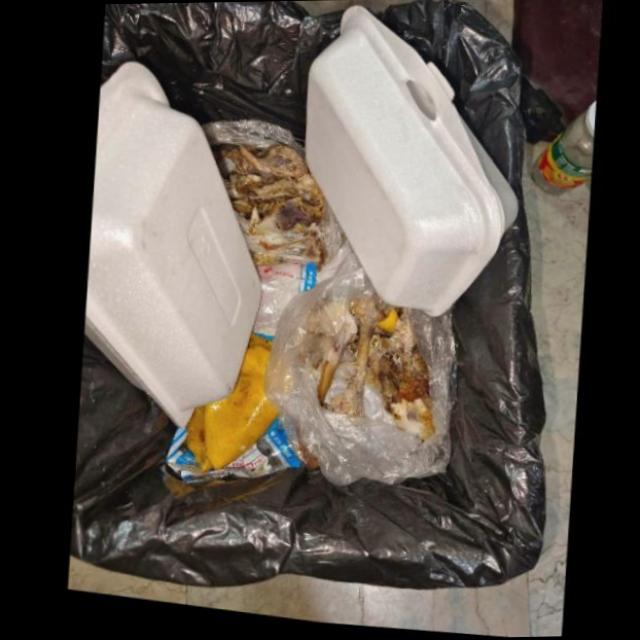chai_thuy_tinh: (528, 101, 592, 196)
thuc_an_thua: (315, 305, 435, 446), (207, 152, 324, 278)
tui_ni_long: (261, 261, 454, 493)
vo_trai_cay: (184, 340, 277, 481)
xop: (300, 11, 515, 322), (81, 72, 259, 440)
